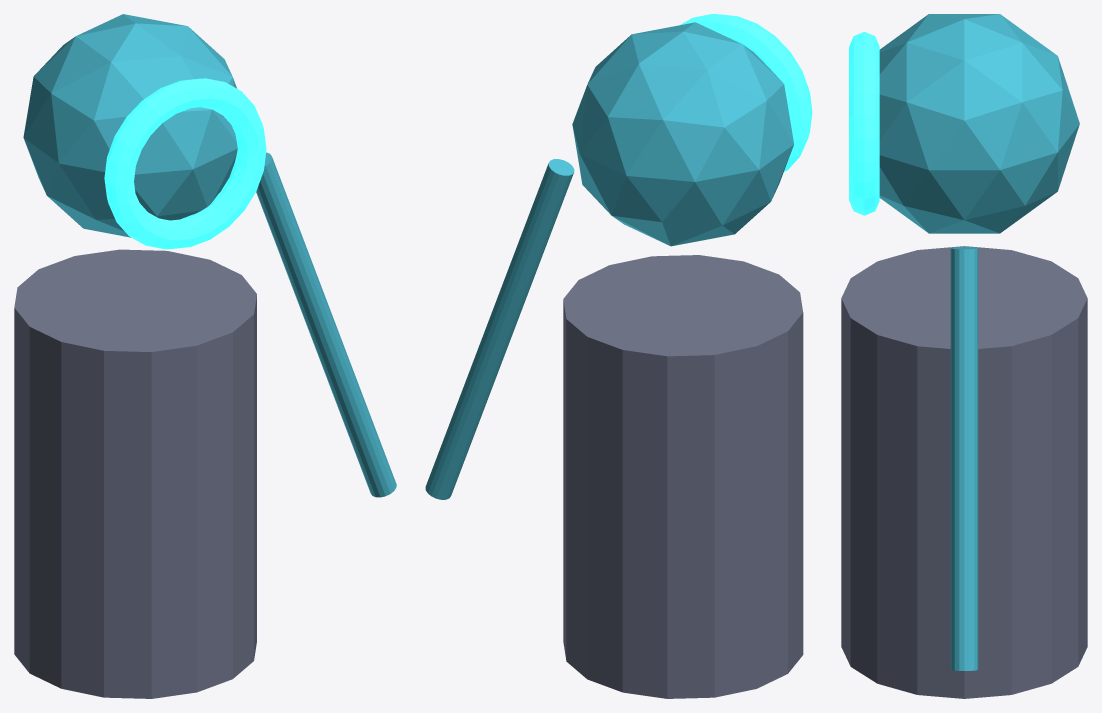
Rendered from rift-lens.glb.
3 views of the same model, side by side, from view 1: azimuth 30°, elevation 25°; view 2: azimuth 150°, elevation 25°; view 3: azimuth 270°, elevation 25° (orthographic).
Visible parts, largest first — view 1: lens-body, lens-head, lens-eye-lens, lens-focus-rod; view 2: lens-body, lens-head, lens-focus-rod, lens-eye-lens; view 3: lens-body, lens-head, lens-focus-rod, lens-eye-lens.
Part boxes in pixels (x1,y1,x2,y2): lens-body: (14,249,256,698); lens-head: (23,14,237,237); lens-eye-lens: (104,78,266,249); lens-focus-rod: (256,152,396,497); lens-body: (563,255,803,698); lens-head: (572,22,793,246); lens-focus-rod: (425,159,574,499); lens-eye-lens: (680,14,812,171); lens-body: (841,246,1087,698); lens-head: (879,14,1079,233); lens-focus-rod: (950,247,978,670); lens-eye-lens: (849,32,879,215).
Bounding box in the file's own units: 0.551 × 0.9 × 0.32.
